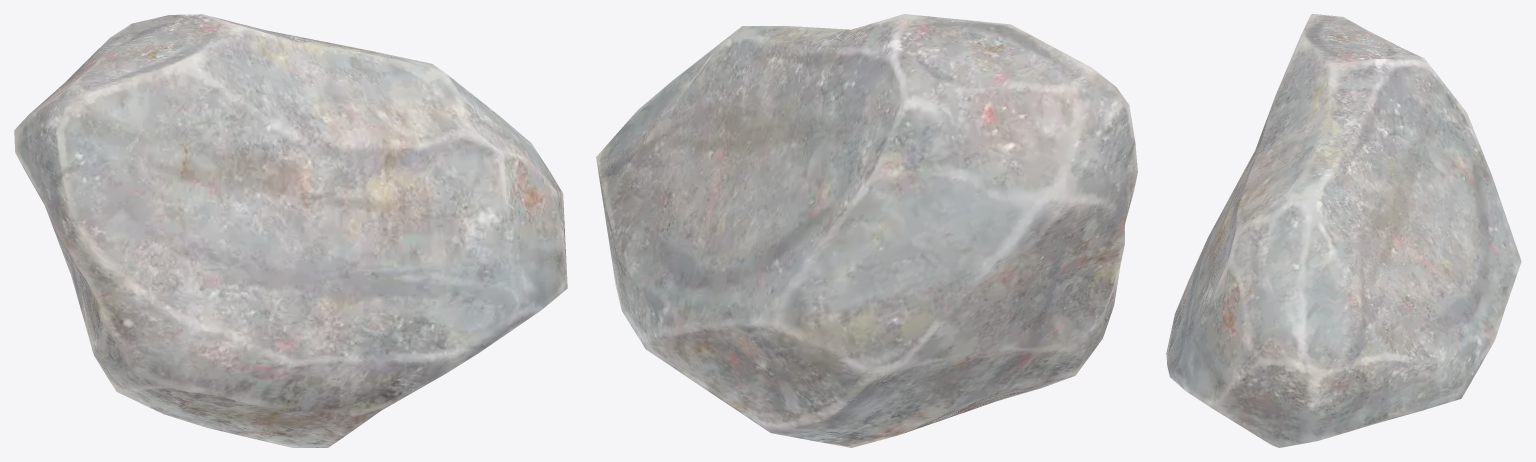
The picture shows the model from 3 angles, left to right: view 1: azimuth 30°, elevation 25°; view 2: azimuth 150°, elevation 25°; view 3: azimuth 270°, elevation 25°; orthographic projection. The views are drawn at different scales.
Visible parts, largest first — view 1: SM_Luminite_Fragment_01_LOD0; view 2: SM_Luminite_Fragment_01_LOD0; view 3: SM_Luminite_Fragment_01_LOD0.
Part boxes in pixels (x1=…): SM_Luminite_Fragment_01_LOD0: x1=14, y1=14, x2=567, y2=447; SM_Luminite_Fragment_01_LOD0: x1=596, y1=14, x2=1137, y2=447; SM_Luminite_Fragment_01_LOD0: x1=1166, y1=14, x2=1521, y2=447.
Bounding box in the file's own units: 0.2272 × 0.1765 × 0.1627.
Materials: 1 (1 with a texture image).
